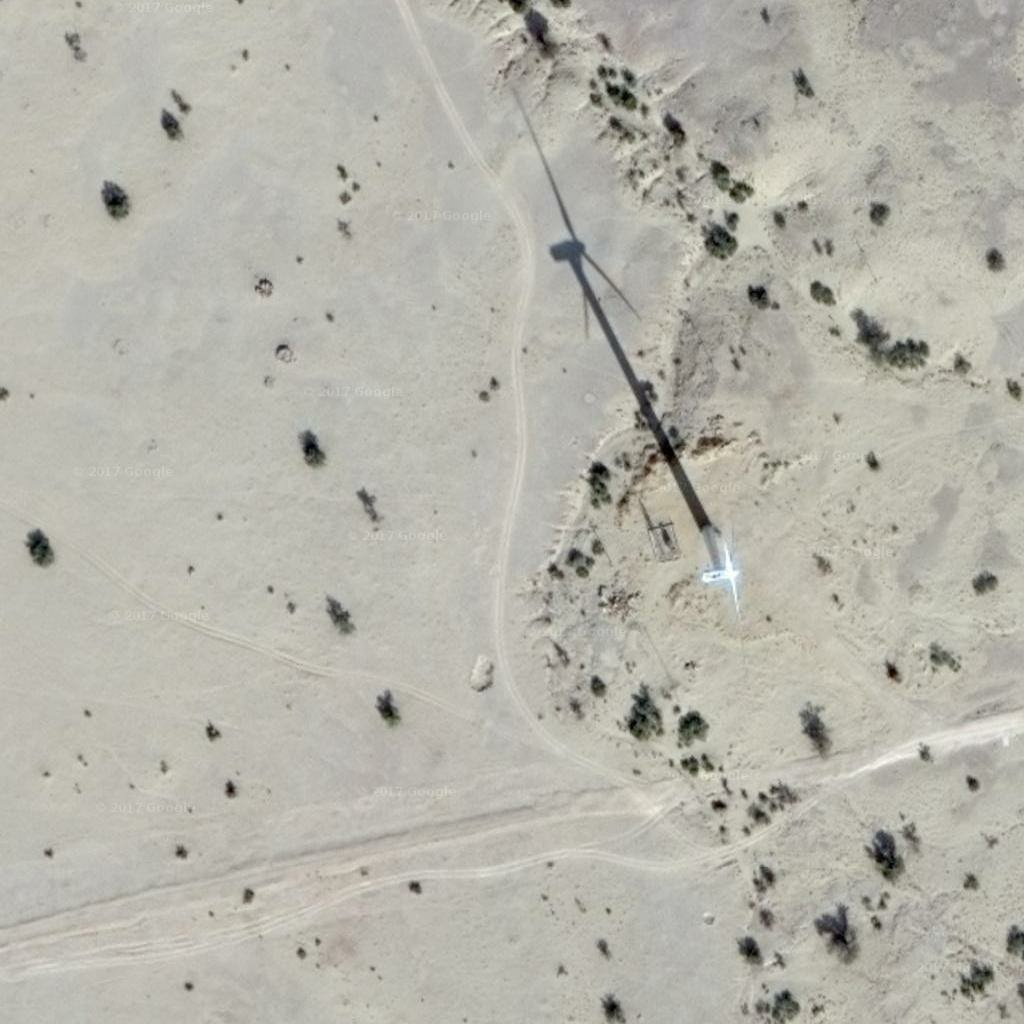Windmill: (495, 90, 723, 522)
